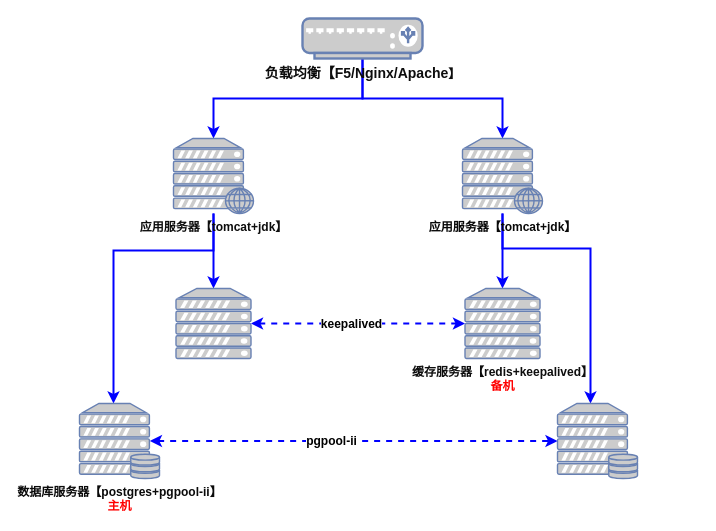
Some shapes in this 716 by 531 pixel diagram are drawn without their labels. The shapes that lost their labels are listed below. From the top down, each one's box as (x1, y1, x2, y2) in pixels, then its label:
(174, 287, 252, 359): 缓存服务器【redis+keepalived】 主机
(556, 402, 638, 479): 数据库服务器【postgres+pgpool-ii】 备机
